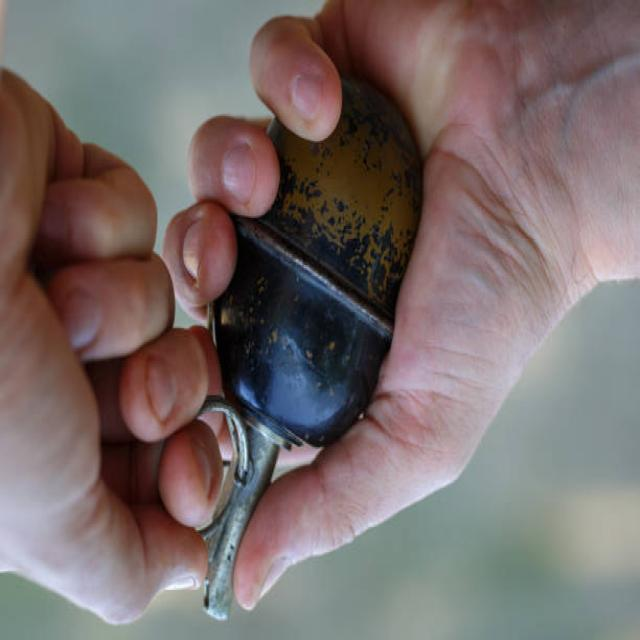grenade: (152, 69, 432, 620)
